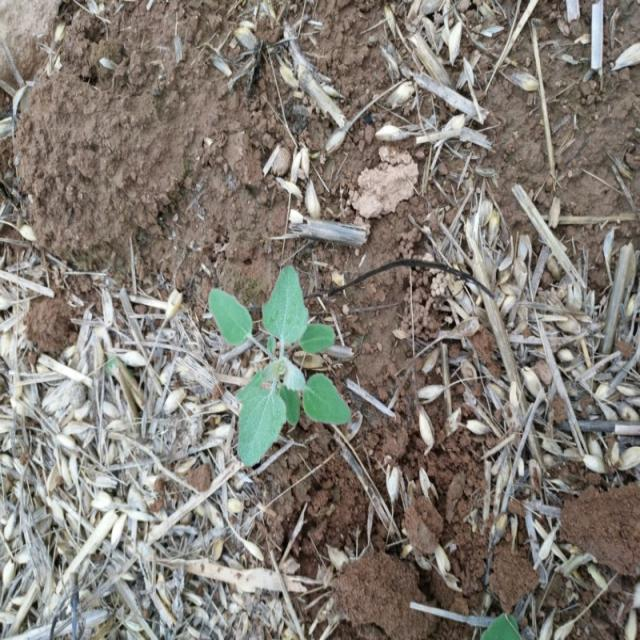goosefoots: (180, 269, 358, 454)
